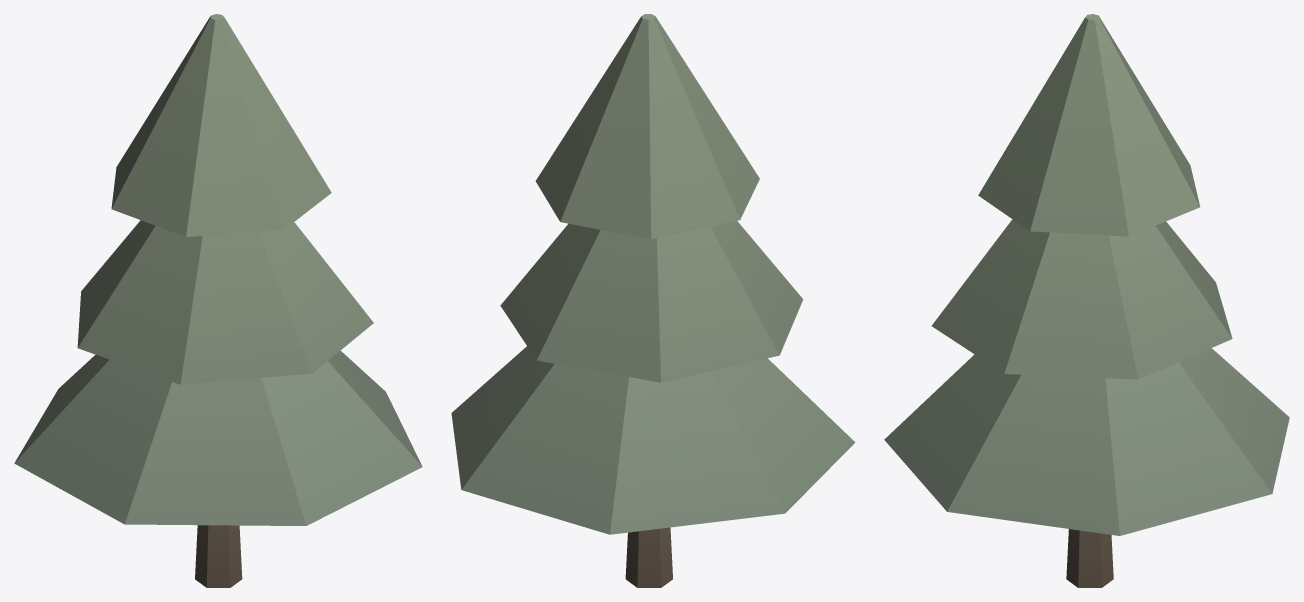
The model's file is iv_pine_b.glb.
3 renders of one model, left to right at view 1: azimuth 30°, elevation 25°; view 2: azimuth 150°, elevation 25°; view 3: azimuth 270°, elevation 25°, orthographic.
Parts seen in each view (by area): view 1: iv_pine_b; view 2: iv_pine_b; view 3: iv_pine_b.
Boxes of the visible parts, box(x1,y1,x2,y2) form: iv_pine_b: box(14, 14, 422, 587); iv_pine_b: box(451, 14, 855, 587); iv_pine_b: box(884, 14, 1289, 587).
Size of the model in its own units: 4.46 by 6.8 by 4.45.
